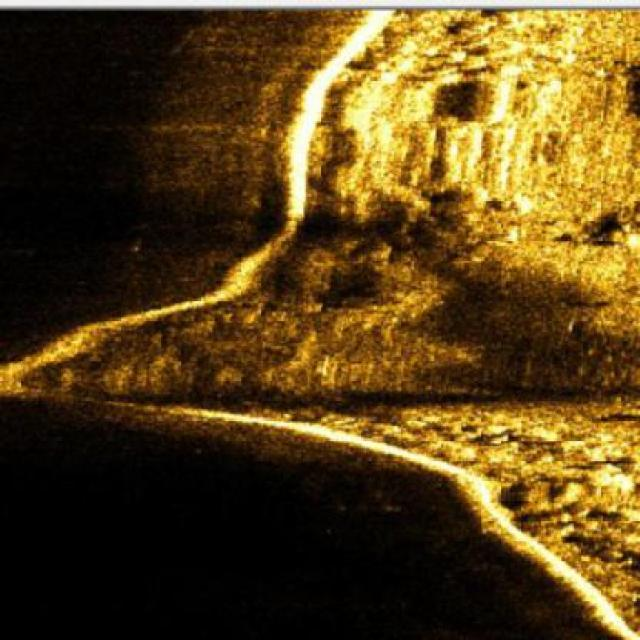bedrock group: (248, 0, 640, 228), (302, 406, 640, 640)
